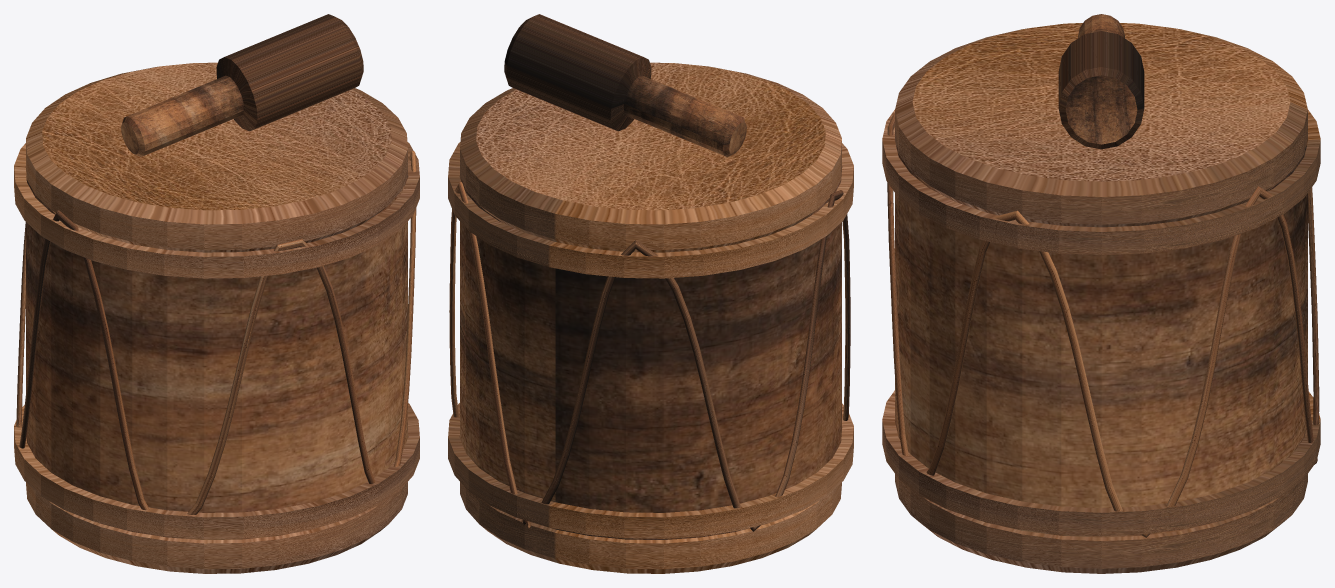
The model's file is tampur.glb.
The picture shows the model from 3 angles, left to right: view 1: azimuth 30°, elevation 25°; view 2: azimuth 150°, elevation 25°; view 3: azimuth 270°, elevation 25°; orthographic projection. The views are drawn at different scales.
Visible parts, largest first — view 1: Cylinder, Cylinder.001, Cylinder.006, Cylinder.002, Cylinder.003, Cylinder.004, cordon; view 2: Cylinder, Cylinder.001, Cylinder.006, Cylinder.002, Cylinder.004, Cylinder.003, cordon; view 3: Cylinder, Cylinder.001, Cylinder.002, Cylinder.003, Cylinder.004, cordon, Cylinder.006.
Part boxes in pixels (box(x1,y1,x2,y2)): Cylinder: box(26, 176, 407, 539); Cylinder.001: box(26, 62, 407, 252); Cylinder.006: box(121, 14, 363, 157); Cylinder.002: box(26, 482, 407, 573); Cylinder.003: box(14, 142, 419, 278); Cylinder.004: box(14, 403, 419, 538); cordon: box(16, 151, 416, 514); Cylinder: box(460, 176, 841, 539); Cylinder.001: box(460, 62, 841, 252); Cylinder.006: box(504, 14, 746, 157); Cylinder.002: box(460, 482, 841, 573); Cylinder.004: box(448, 403, 853, 538); Cylinder.003: box(448, 142, 853, 278); cordon: box(449, 182, 850, 531); Cylinder: box(895, 145, 1307, 537); Cylinder.001: box(895, 23, 1307, 227); Cylinder.002: box(895, 474, 1307, 573); Cylinder.003: box(882, 110, 1320, 255); Cylinder.004: box(882, 390, 1320, 536); cordon: box(887, 115, 1319, 537); Cylinder.006: box(1058, 14, 1144, 149).
Size of the model in its own units: 0.7435 by 0.91 by 0.7435.
2 materials, 2 textured.
